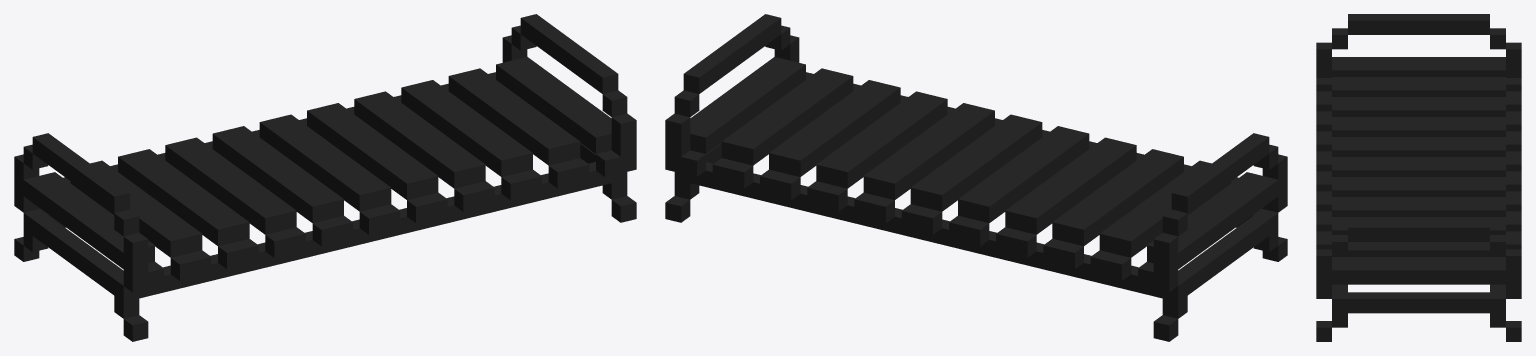
File: Park_Bench_Metal_02.glb
3 views of the same model, side by side, from view 1: azimuth 30°, elevation 25°; view 2: azimuth 150°, elevation 25°; view 3: azimuth 270°, elevation 25° (orthographic). The views are drawn at different scales.
Visible parts, largest first — view 1: Park_Bench_Metal_02; view 2: Park_Bench_Metal_02; view 3: Park_Bench_Metal_02.
Part boxes in pixels (left/top/right/bottom): Park_Bench_Metal_02: left=14, top=14, right=636, bottom=341; Park_Bench_Metal_02: left=665, top=14, right=1287, bottom=341; Park_Bench_Metal_02: left=1316, top=14, right=1521, bottom=341.
Bounding box in the file's own units: 3.2 × 0.8 × 1.3.
1 material, 1 textured.
